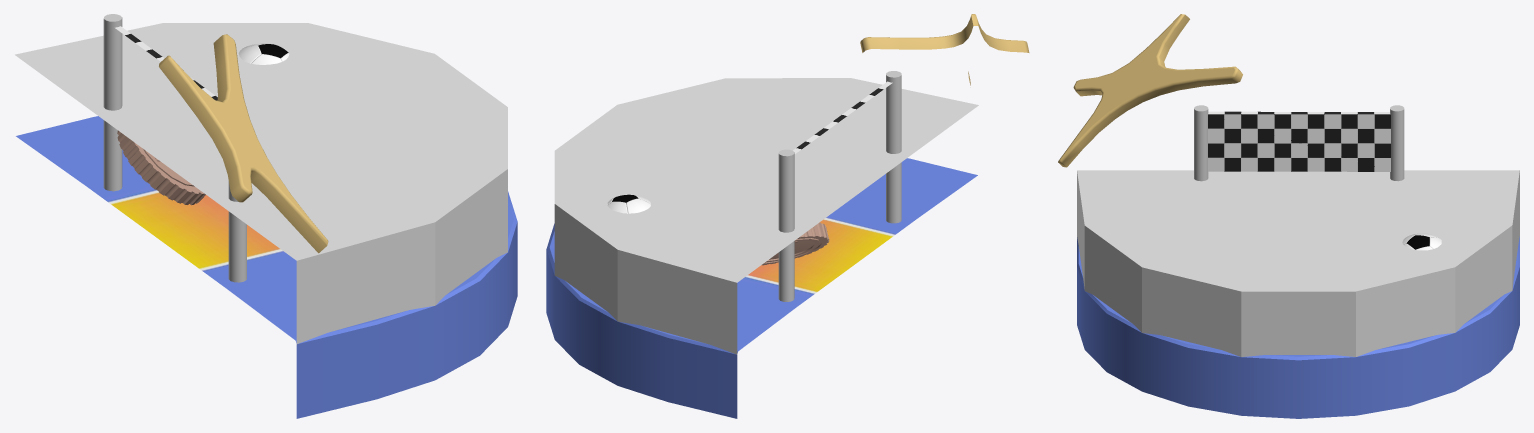
Rendered from omada-transformed.glb.
The picture shows the model from 3 angles, left to right: view 1: azimuth 30°, elevation 25°; view 2: azimuth 150°, elevation 25°; view 3: azimuth 270°, elevation 25°; orthographic projection. The views are drawn at different scales.
Parts seen in each view (by area): view 1: omadaIntersection, omadaBase, omadaLogo, omadaFinishPole, omadaCoin, omadaBallWhite; view 2: omadaIntersection, omadaBase, omadaFinishPole, omadaLogo, omadaCoin, omadaFinishFlag, omadaBallWhite; view 3: omadaIntersection, omadaBase, omadaFinishFlag, omadaLogo, omadaFinishPole.
Part boxes in pixels (x1,y1,x2,y2): omadaIntersection: (15, 23, 507, 343); omadaBase: (16, 116, 517, 418); omadaLogo: (159, 34, 328, 253); omadaFinishPole: (103, 14, 246, 282); omadaCoin: (117, 130, 205, 205); omadaBallWhite: (238, 43, 289, 64); omadaIntersection: (554, 78, 978, 354); omadaBase: (546, 158, 977, 418); omadaFinishPole: (778, 71, 901, 301); omadaLogo: (860, 14, 1029, 85); omadaCoin: (762, 222, 829, 265); omadaFinishFlag: (793, 81, 892, 153); omadaBallWhite: (607, 195, 650, 213); omadaIntersection: (1077, 170, 1519, 356); omadaBase: (1077, 236, 1519, 418); omadaFinishFlag: (1208, 111, 1390, 171); omadaLogo: (1058, 14, 1242, 167); omadaFinishPole: (1194, 105, 1404, 181).
Bounding box in the file's own units: 52.6 × 41.99 × 68.21.
Materials: 7 (2 with a texture image).
